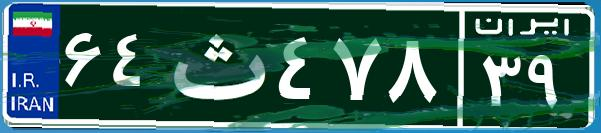3: (475, 38, 525, 113)
4: (273, 28, 330, 110), (110, 28, 158, 105)
6: (57, 26, 110, 107)
7: (330, 28, 385, 110)
8: (385, 28, 445, 110)
9: (525, 38, 570, 115)
ث: (158, 15, 273, 115)
